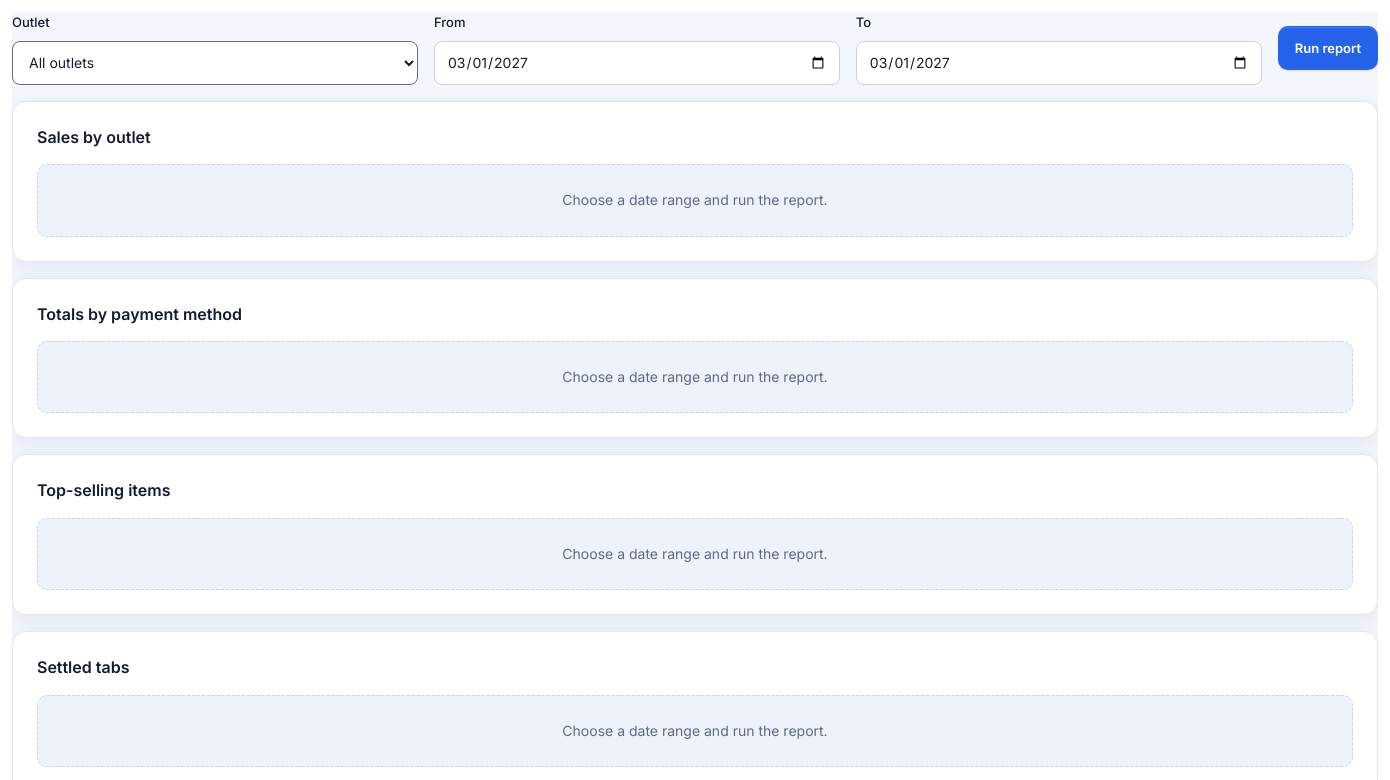
Test case: <SalesTab> › says there were no sales rather than a blank table when the range is empty
Click the button "Run report" at point(1328, 48), box [1278,26,1378,70]
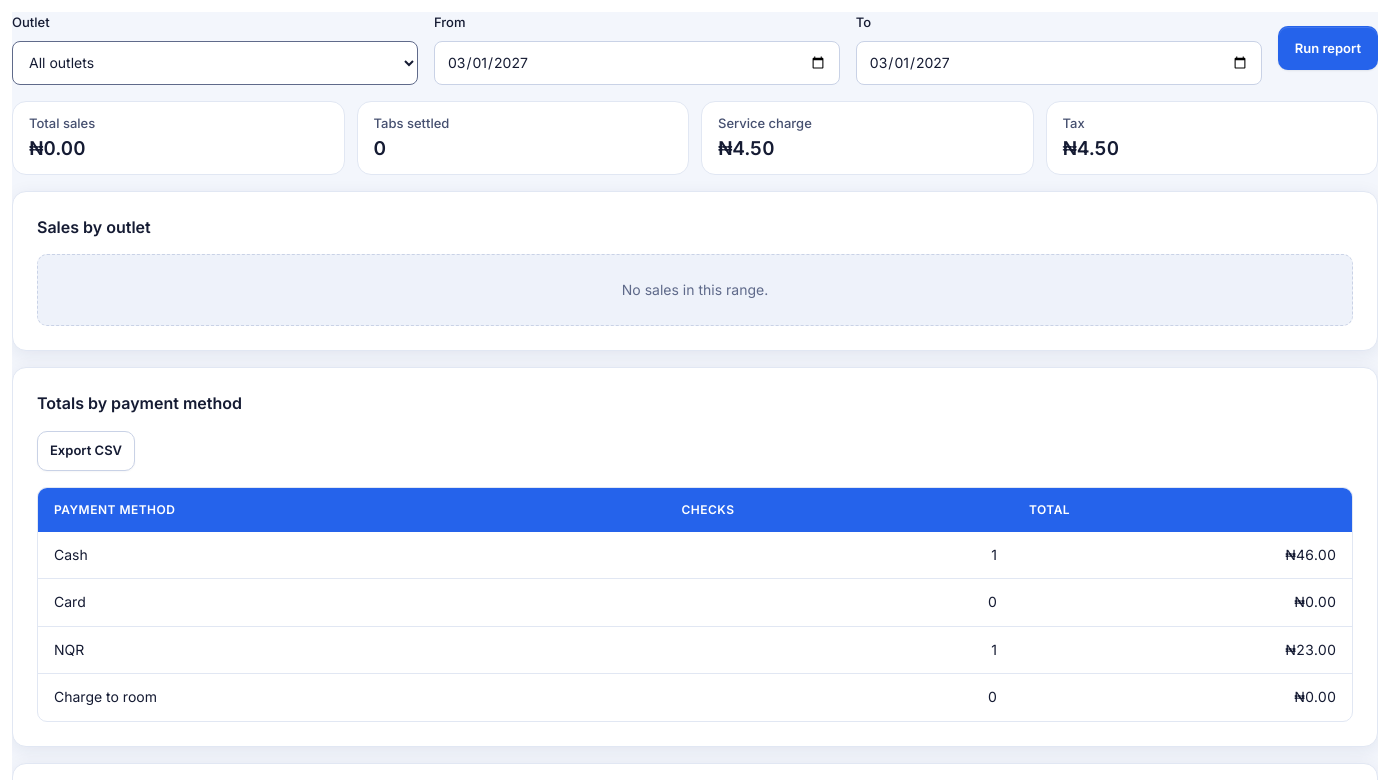
Expected: the text "No sales in this range." is shown 3 times
